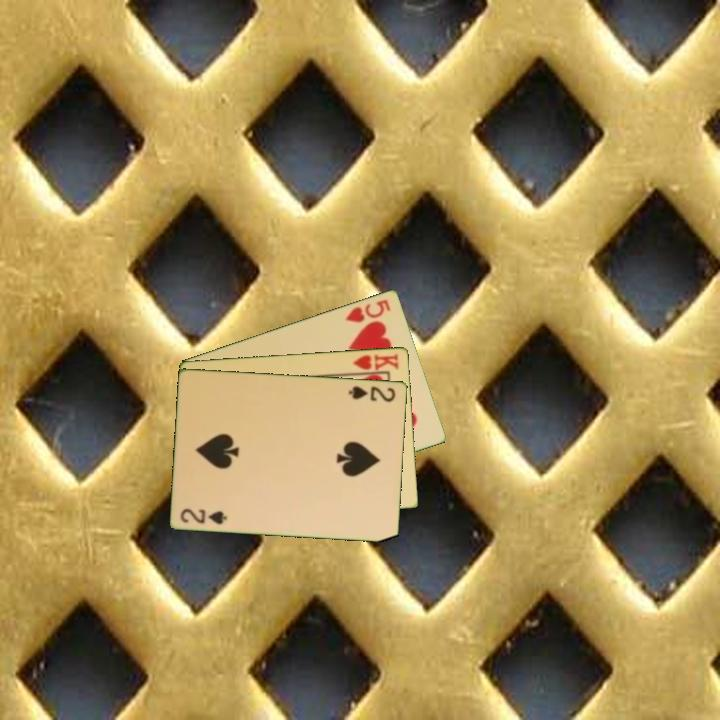2s: (345, 382, 398, 404), (177, 505, 230, 527)
5h: (342, 296, 393, 325)
Kh: (347, 350, 402, 376)
